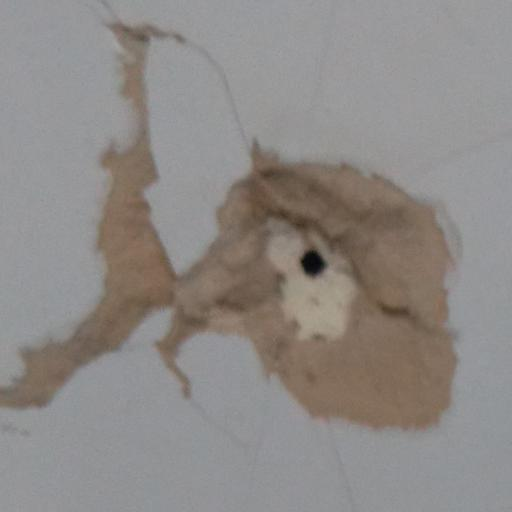spalling: (4, 0, 464, 454)
